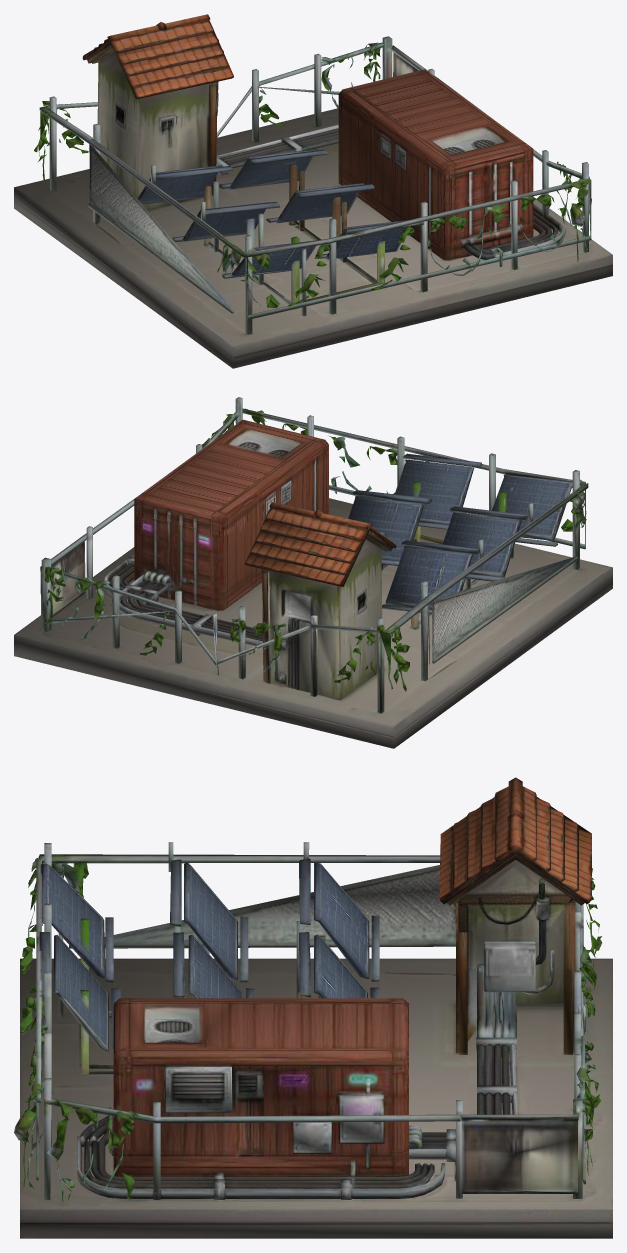
File: solar_farm.glb
3 renders of one model, top to bottom at view 1: azimuth 30°, elevation 25°; view 2: azimuth 150°, elevation 25°; view 3: azimuth 270°, elevation 25°, orthographic. The views are drawn at different scales.
Parts seen in each view (by area): view 1: Body; view 2: Body; view 3: Body.
Part boxes in pixels (x1,y1,x2,y2): Body: (14, 14, 612, 368); Body: (14, 397, 612, 748); Body: (14, 777, 612, 1238).
Bounding box in the file's own units: 16 × 7.48 × 16.13.
1 material, 1 textured.
